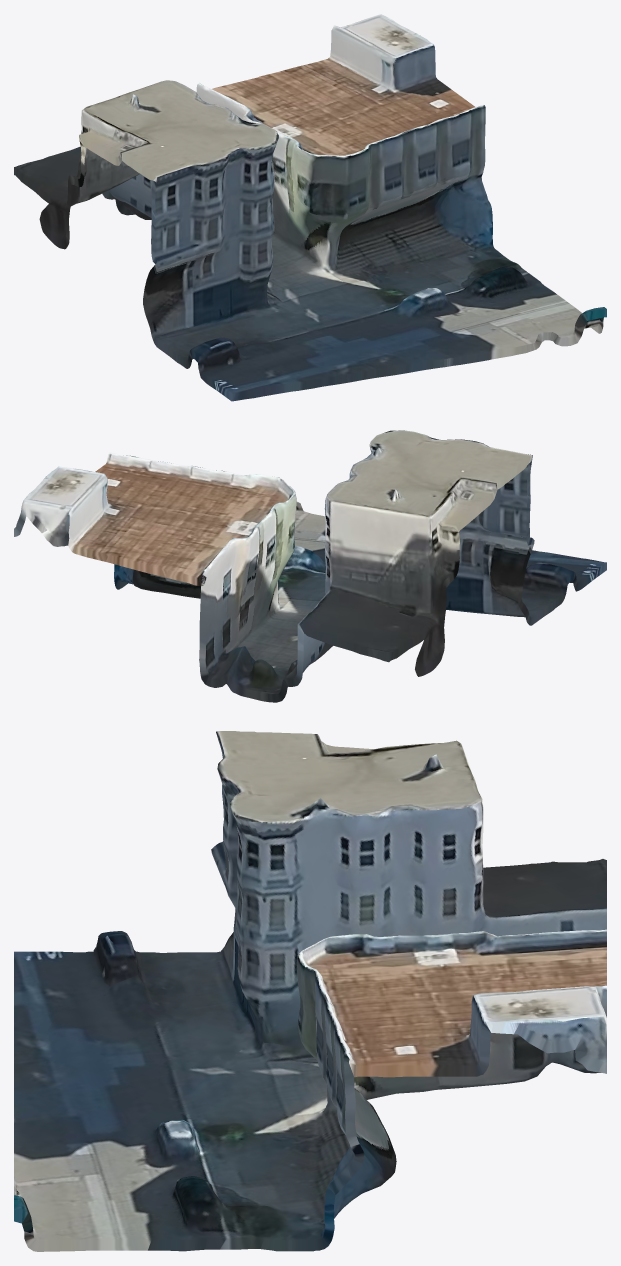
File: z20-167724-405197-h0-yup-uvflip-v3-world.glb
3 renders of one model, top to bottom at view 1: azimuth 30°, elevation 25°; view 2: azimuth 150°, elevation 25°; view 3: azimuth 270°, elevation 25°, orthographic. The views are drawn at different scales.
Bounding box in the file's own units: 30.16 × 16.12 × 30.32.
Materials: 1 (1 with a texture image).
